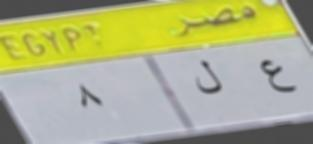8: (73, 79, 108, 117)
ain: (255, 60, 300, 98)
laam: (191, 55, 225, 101)
